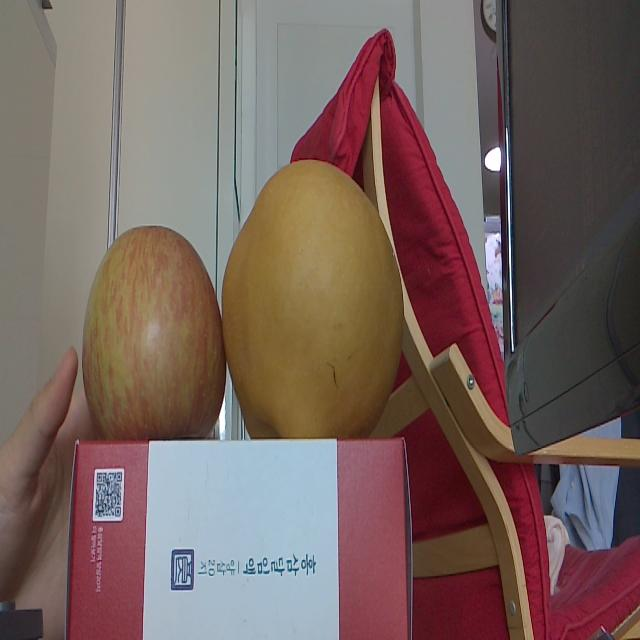apple: (79, 212, 227, 439)
pear: (225, 158, 404, 436)
